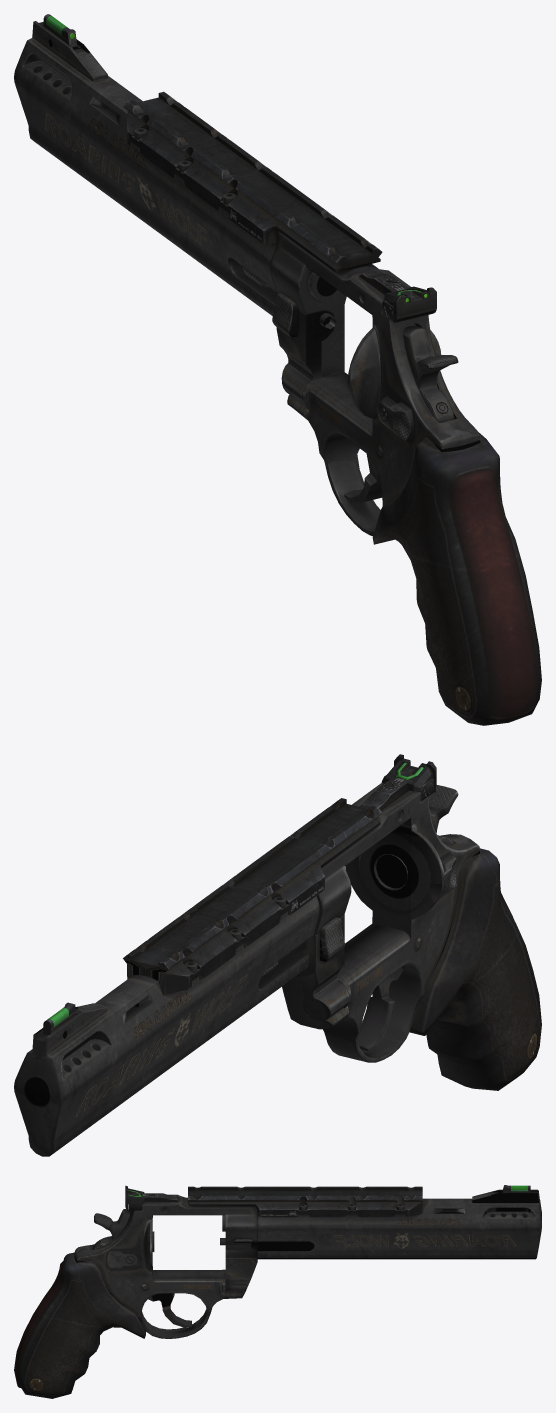
The picture shows the model from 3 angles, top to bottom: view 1: azimuth 30°, elevation 25°; view 2: azimuth 150°, elevation 25°; view 3: azimuth 270°, elevation 25°; orthographic projection. The views are drawn at different scales.
Parts seen in each view (by area): view 1: Body; view 2: Body; view 3: Body.
Part boxes in pixels (x1,y1,x2,y2): Body: (14, 14, 541, 725); Body: (14, 754, 541, 1156); Body: (14, 1185, 541, 1398).
Size of the model in its own units: 0.0477 by 0.1834 by 0.4212.
Materials: 1 (1 with a texture image).
